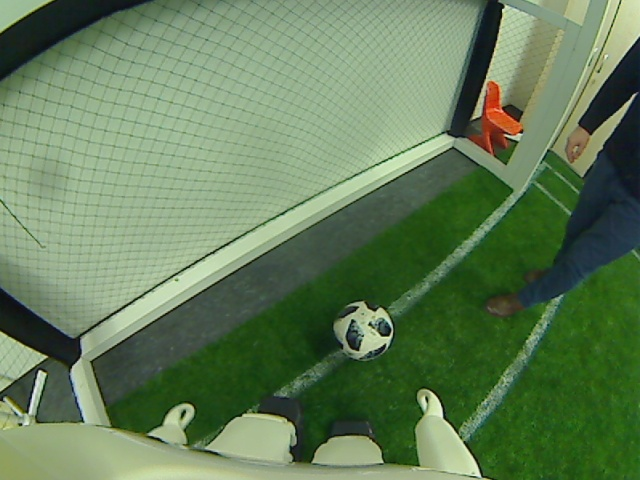ball: (332, 296, 394, 363)
